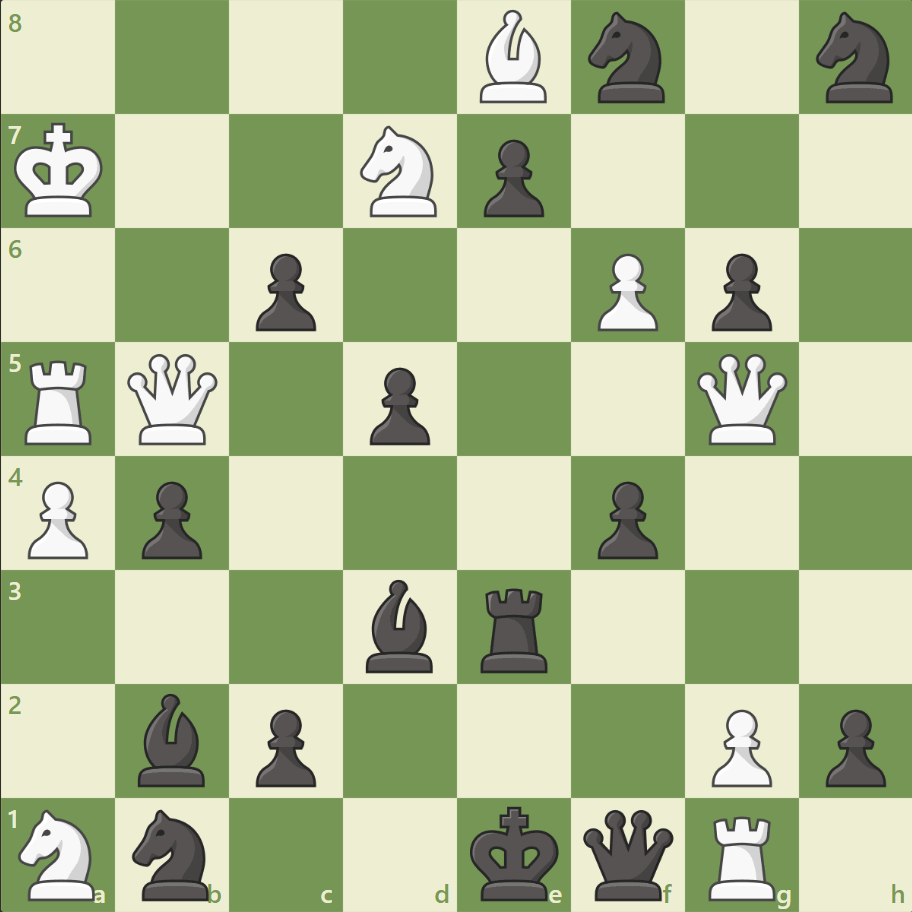B: (471, 6, 555, 109)
K: (11, 117, 111, 225)
N: (351, 121, 449, 223), (11, 802, 108, 904)
P: (20, 473, 95, 564), (701, 700, 776, 791), (588, 246, 662, 337)
Q: (124, 349, 223, 449), (691, 349, 790, 449)
R: (700, 806, 783, 904), (19, 352, 102, 449)
b: (131, 687, 215, 790), (358, 574, 442, 676)
k: (465, 798, 565, 906)
n: (124, 802, 222, 904), (579, 7, 676, 110), (806, 7, 903, 110)
p: (474, 132, 549, 223), (247, 246, 322, 337), (701, 246, 776, 337), (133, 473, 208, 564), (247, 700, 322, 791), (361, 359, 435, 450), (588, 473, 662, 564), (815, 700, 889, 791)
q: (578, 804, 677, 903)
r: (473, 579, 556, 676)
